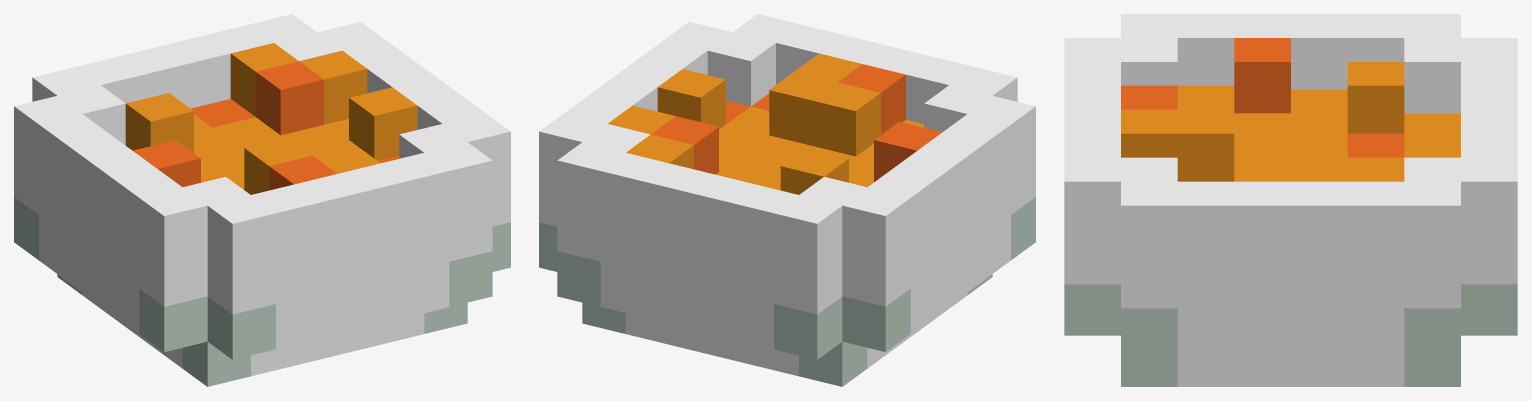
Rendered from bowlofchips.obj.
The picture shows the model from 3 angles, left to right: view 1: azimuth 30°, elevation 25°; view 2: azimuth 150°, elevation 25°; view 3: azimuth 270°, elevation 25°; orthographic projection. The views are drawn at different scales.
Bounding box in the file's own units: 0.8 × 0.4 × 0.8.
1 material, 1 textured.
